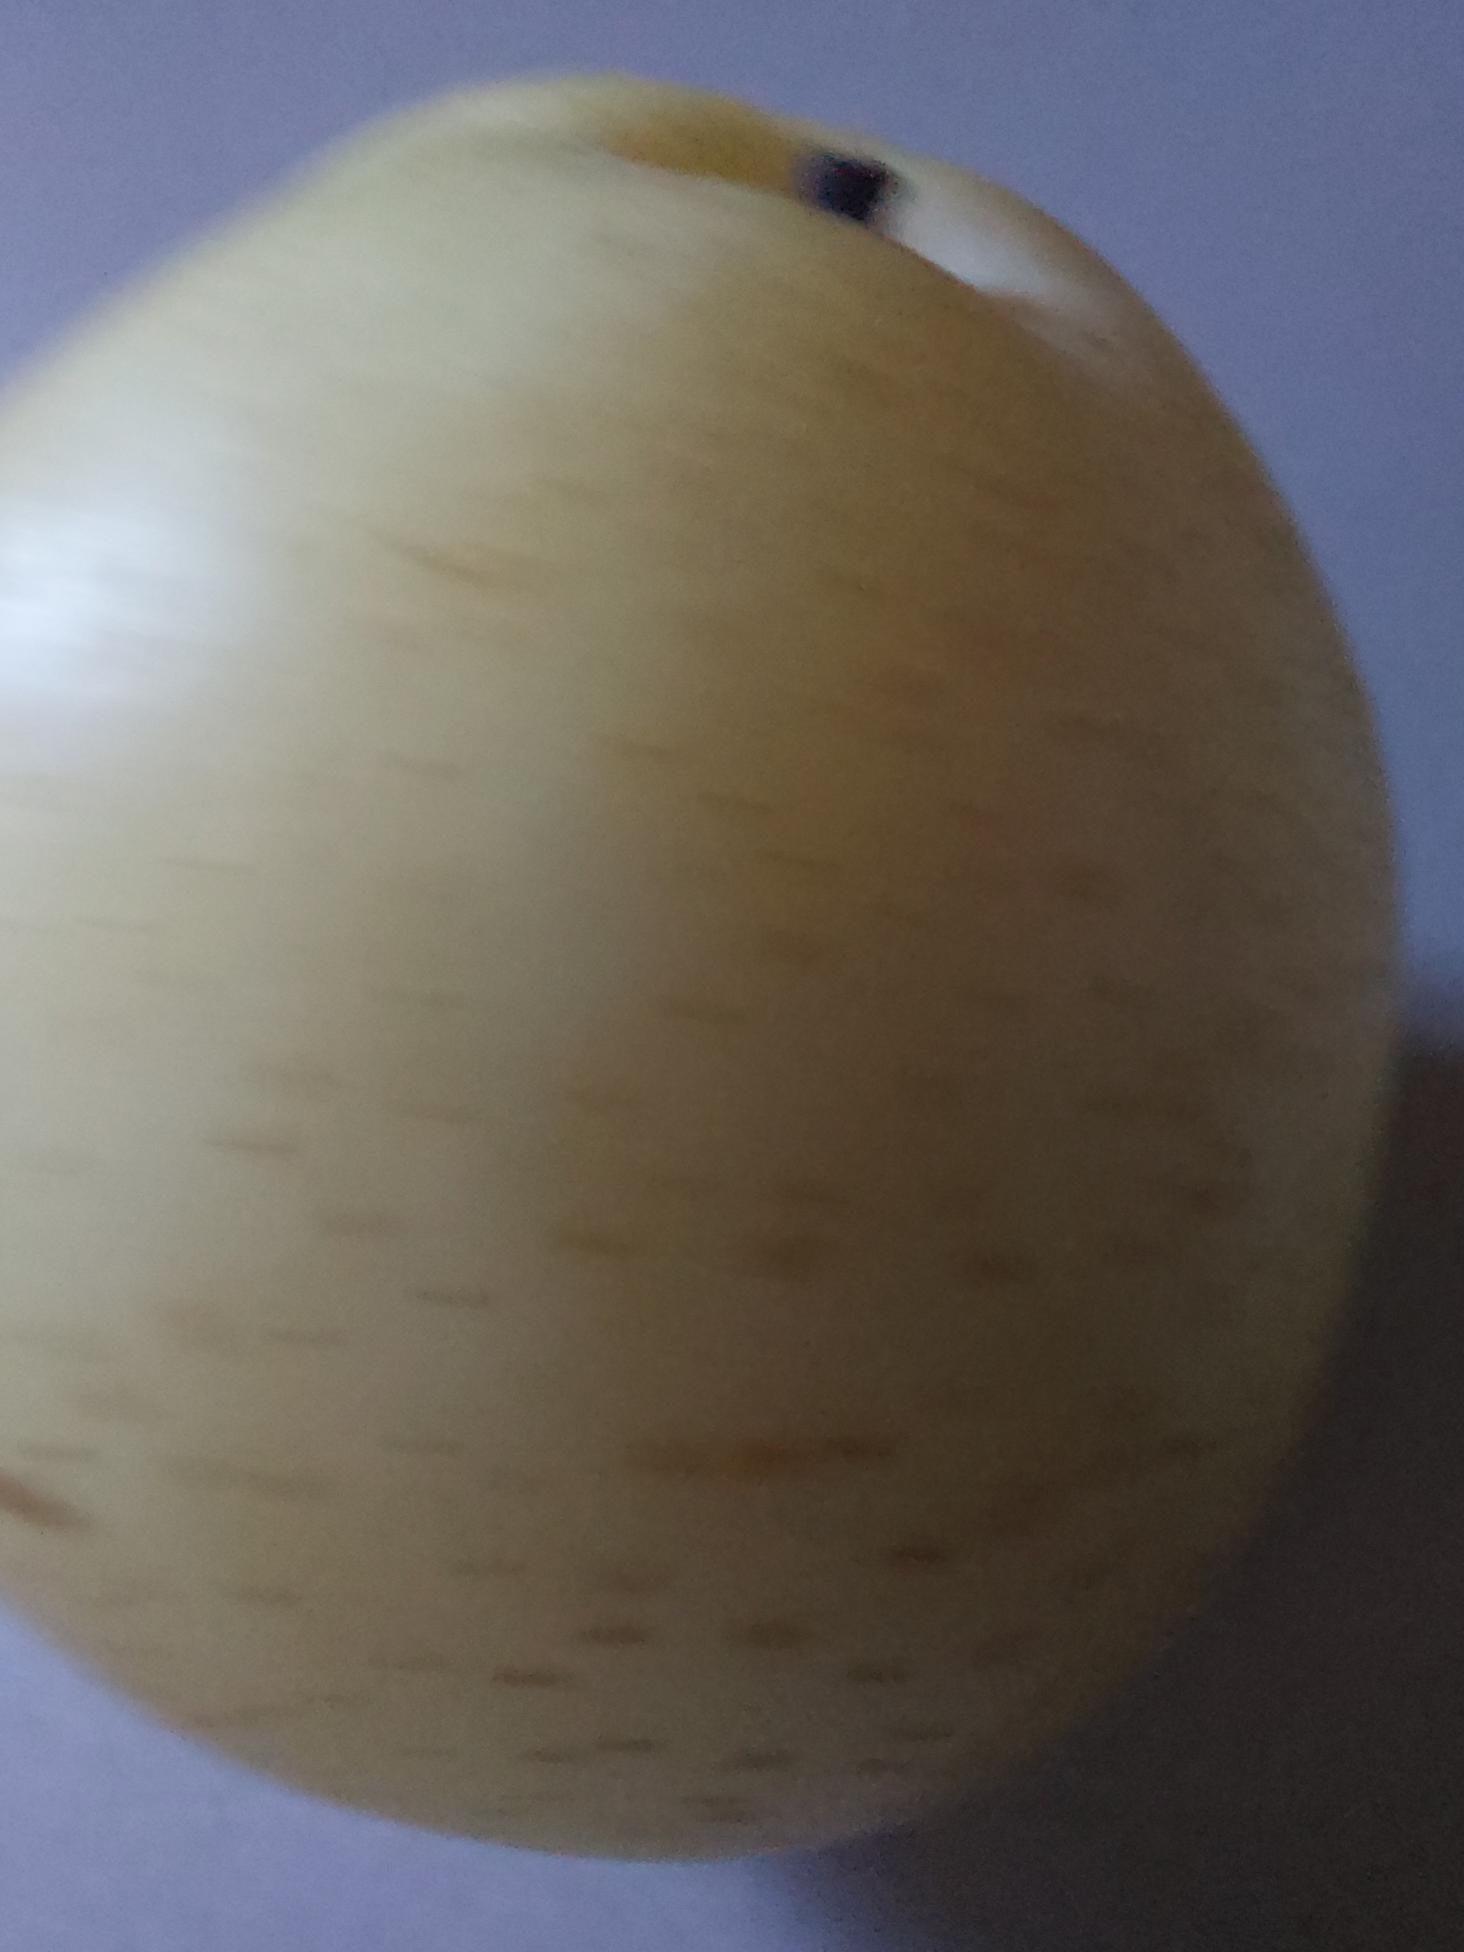Good Pear: (0, 69, 1382, 1860)
